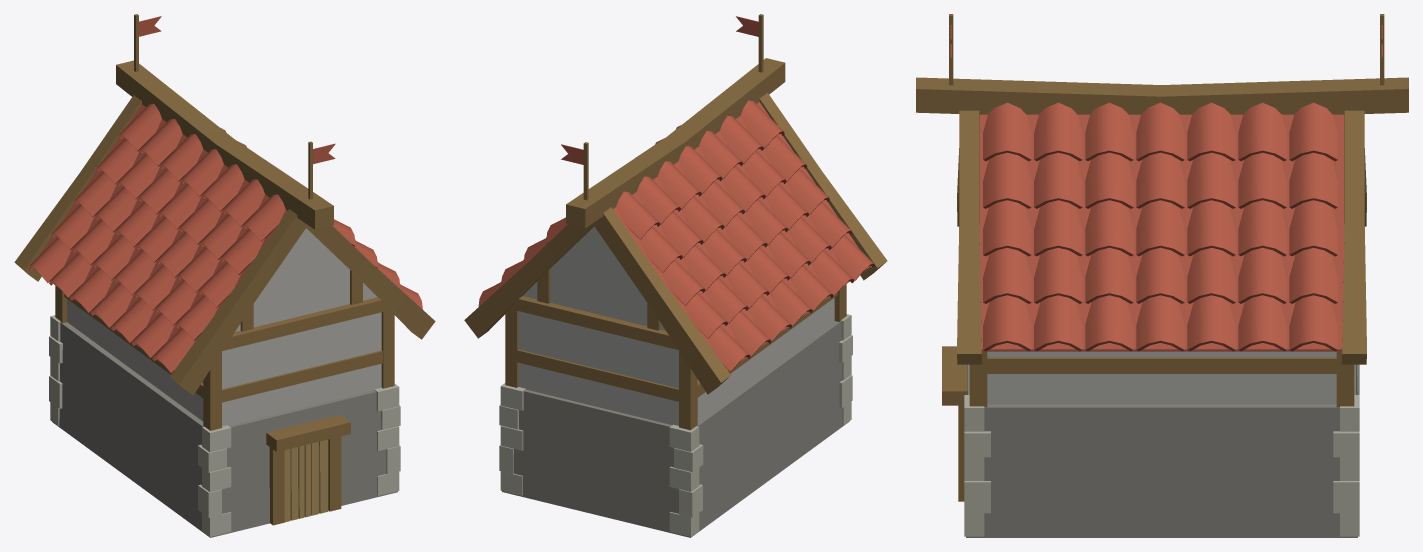
File: Houses_SecondAge_1_Level3.glb
3 renders of one model, left to right at view 1: azimuth 30°, elevation 25°; view 2: azimuth 150°, elevation 25°; view 3: azimuth 270°, elevation 25°, orthographic. The views are drawn at different scales.
Parts seen in each view (by area): view 1: Houses_SecondAge_1_Level3; view 2: Houses_SecondAge_1_Level3; view 3: Houses_SecondAge_1_Level3.
Boxes of the visible parts, left/top/right/bottom form: Houses_SecondAge_1_Level3: left=14, top=14, right=435, bottom=537; Houses_SecondAge_1_Level3: left=464, top=14, right=887, bottom=537; Houses_SecondAge_1_Level3: left=916, top=14, right=1408, bottom=537.
Bounding box in the file's own units: 0.89 × 1.23 × 1.17.
Materials: 1 (1 with a texture image).
